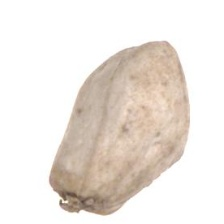L1: (54, 189, 111, 215), (140, 37, 178, 54)
L2: (49, 39, 190, 214)
